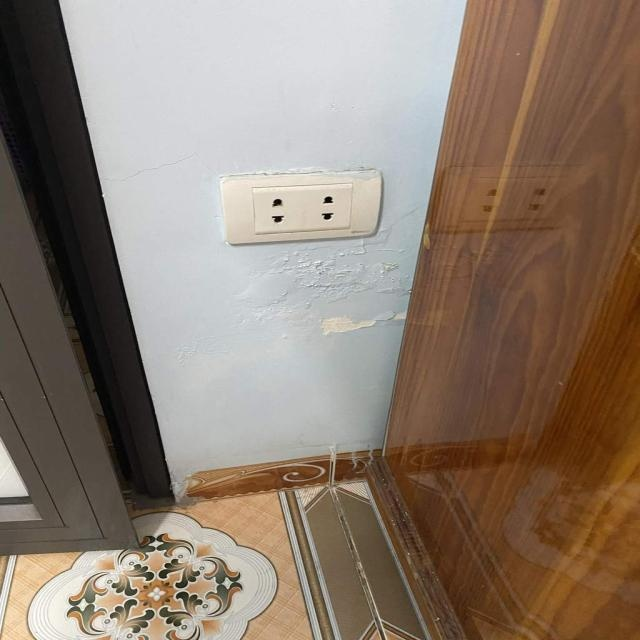outlet: (218, 167, 383, 245)
